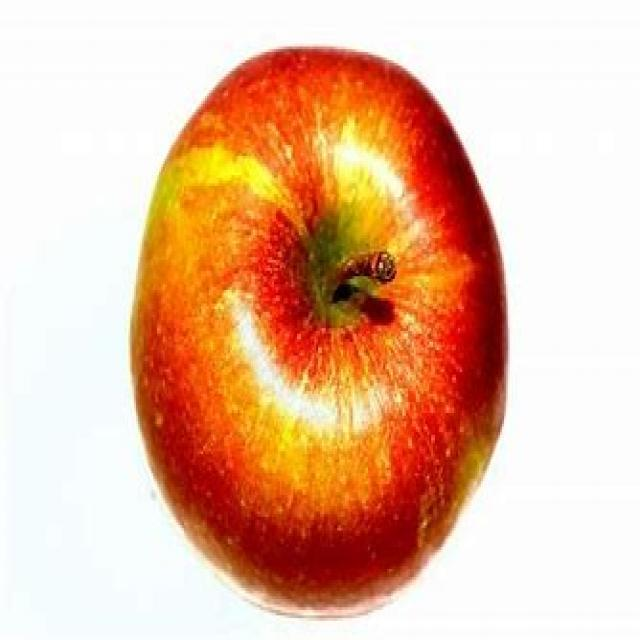Apple: (119, 40, 512, 592)
